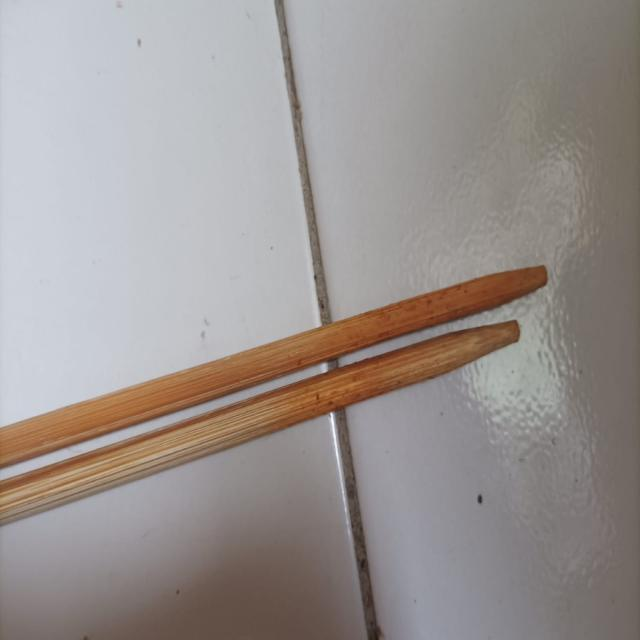Organik: (0, 262, 545, 529)
